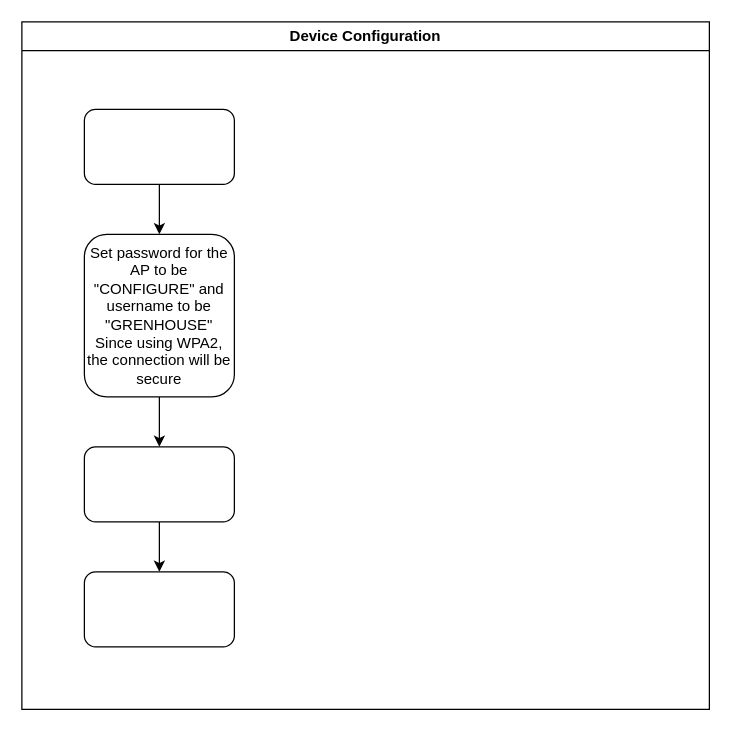
Some shapes in this 731 by 731 pixel diagram are drawn without their labels. The centre of each missing label's shape, as x and y in pixels:
Start the device in AP mode to allow wifi connections: the point at 158,146
wait for a client to associate, at this point accept no more associations: the point at 158,484
